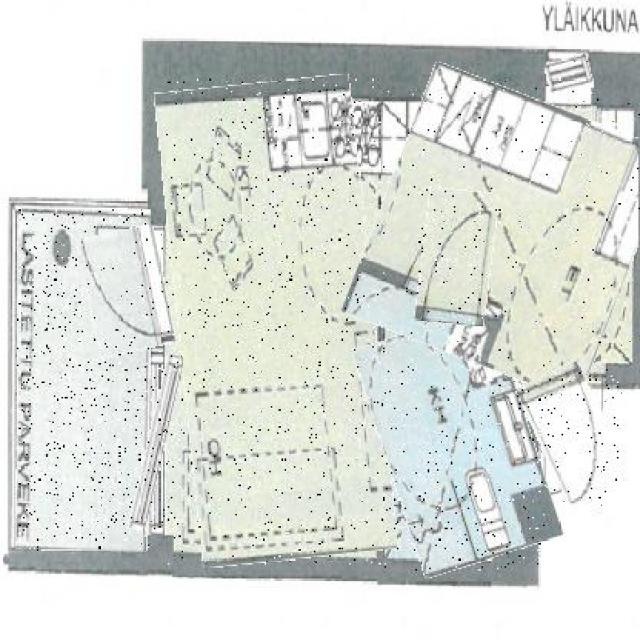door: (529, 365, 622, 509), (83, 228, 171, 354), (418, 188, 494, 324)
window: (138, 354, 174, 532), (546, 57, 592, 94)
zone: (166, 78, 386, 564), (360, 80, 640, 383), (369, 314, 548, 571), (17, 209, 151, 551)
